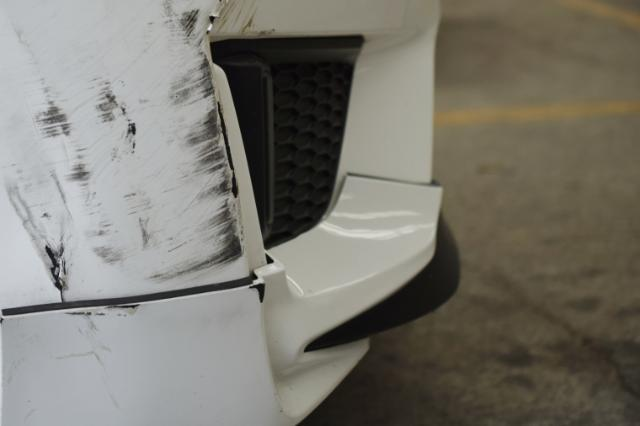Fender: (2, 0, 264, 310)
